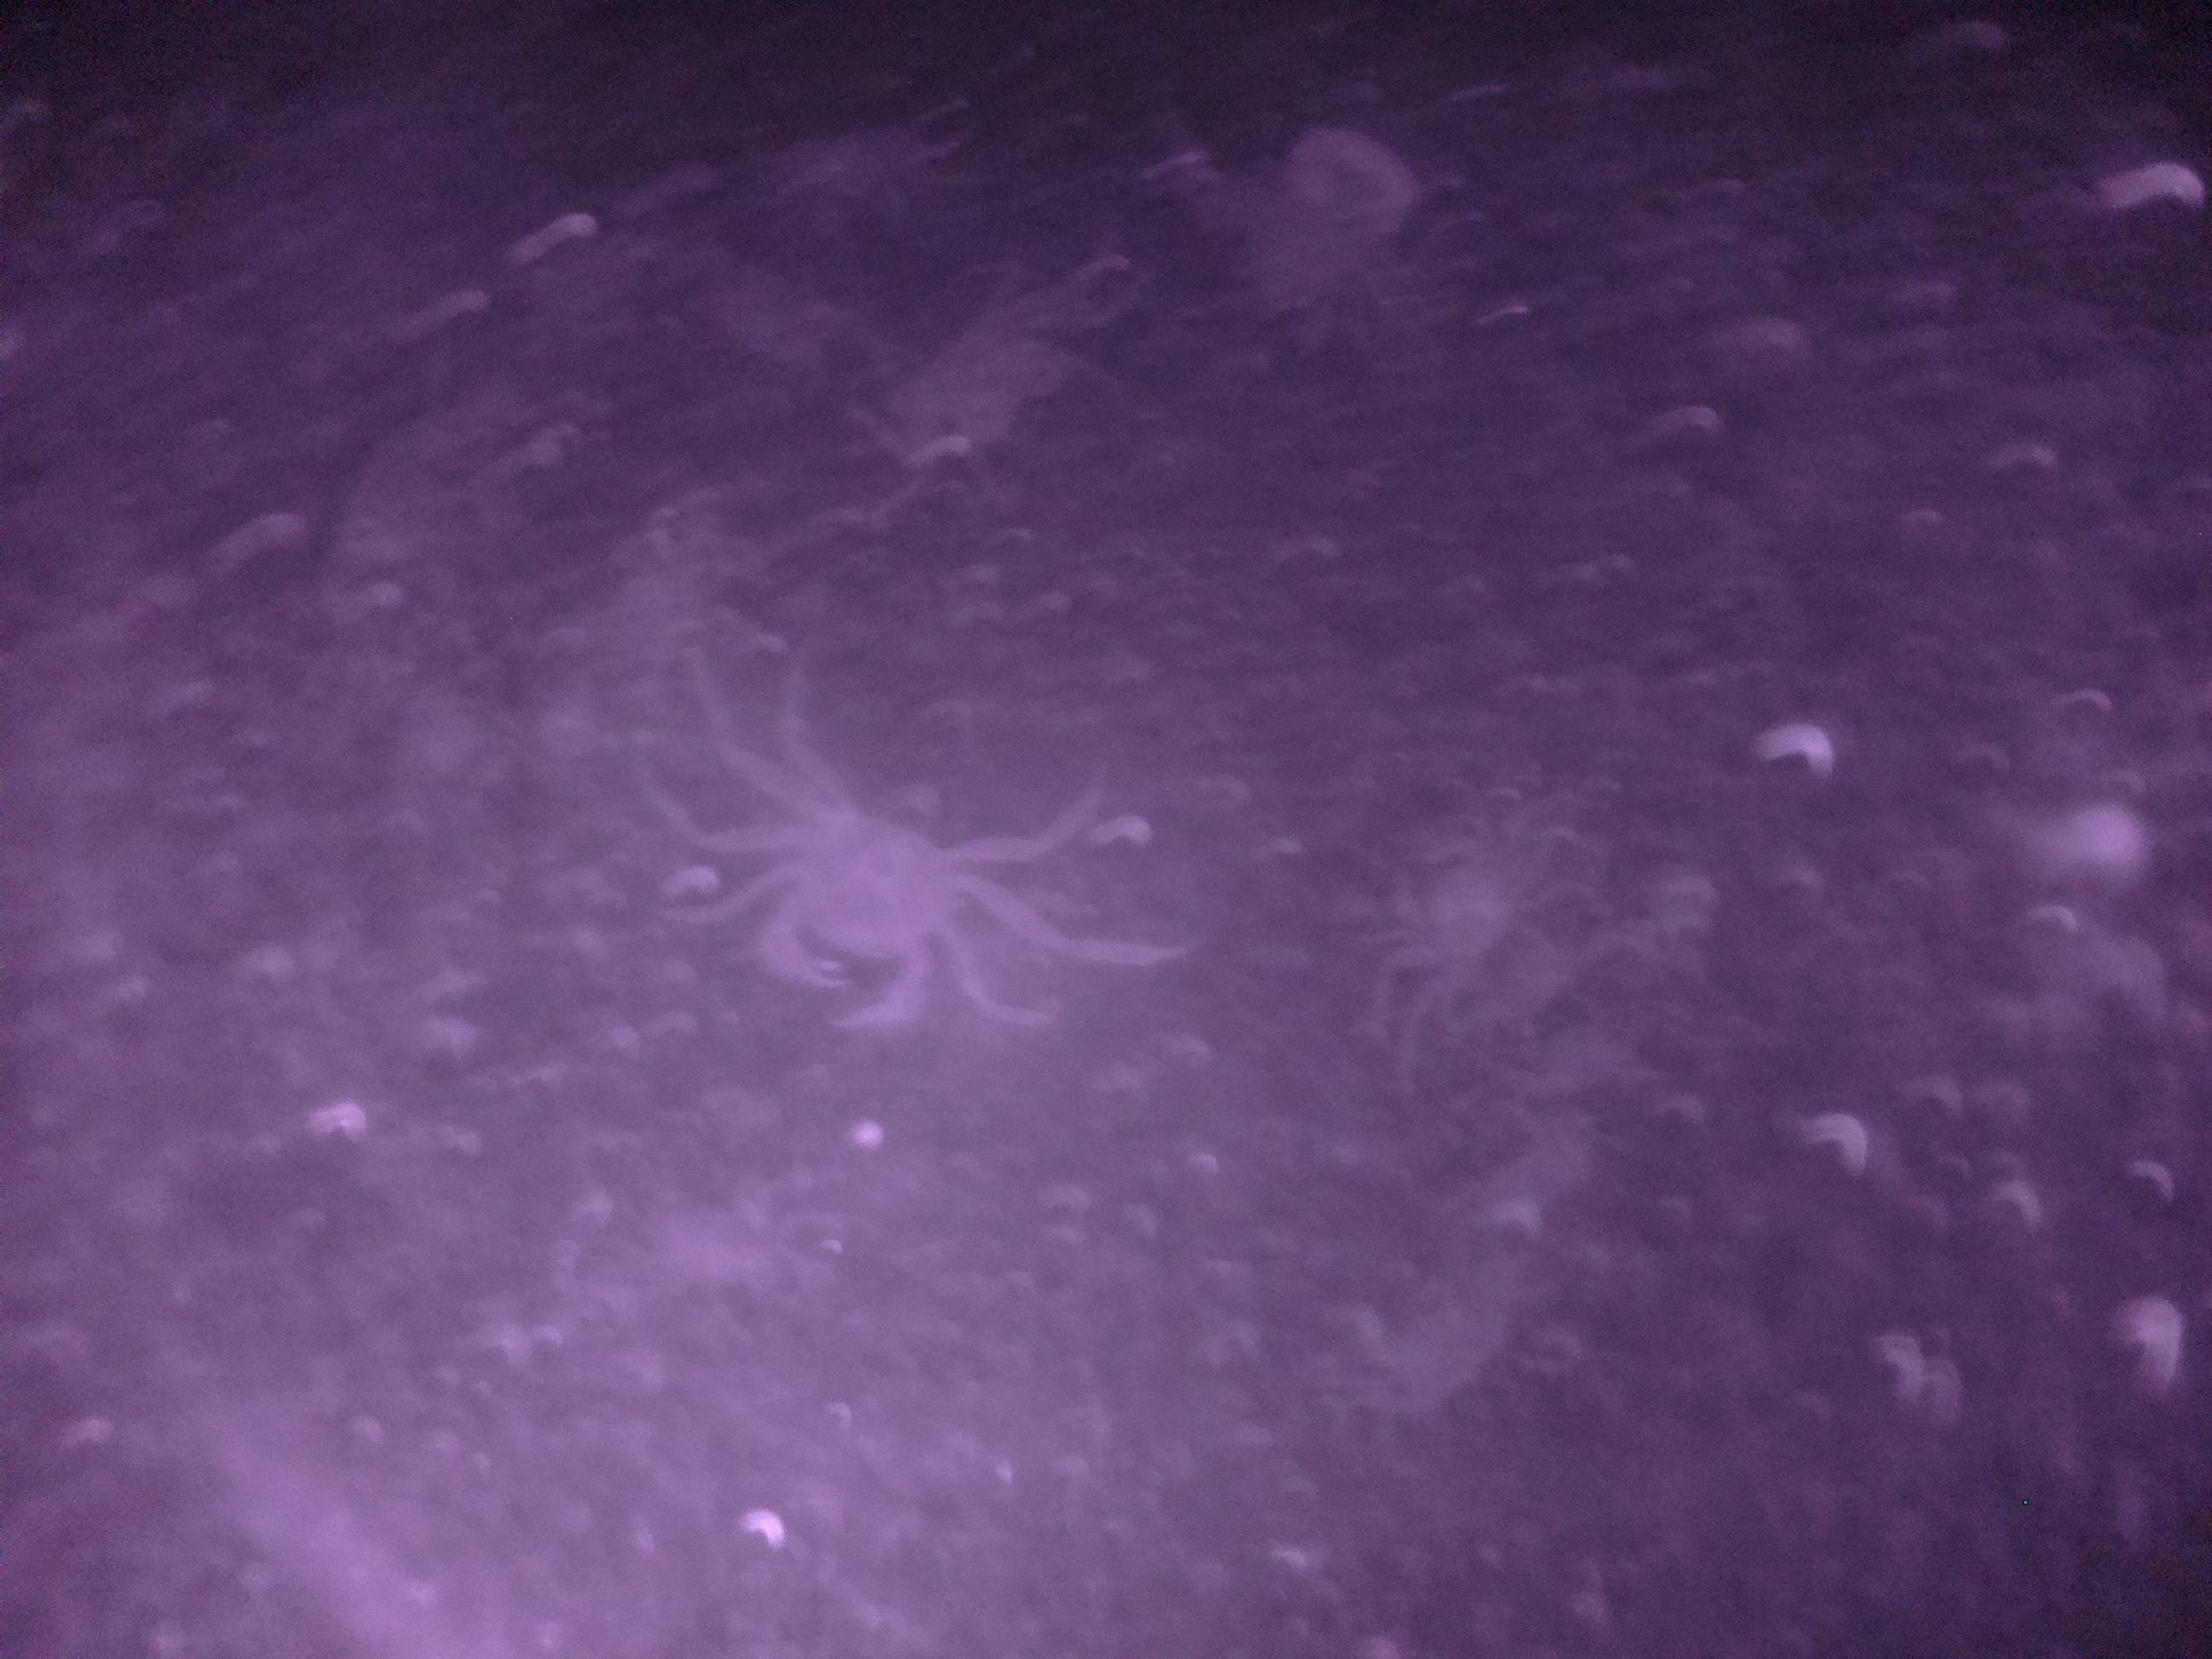Crab: (740, 744, 996, 1047)
